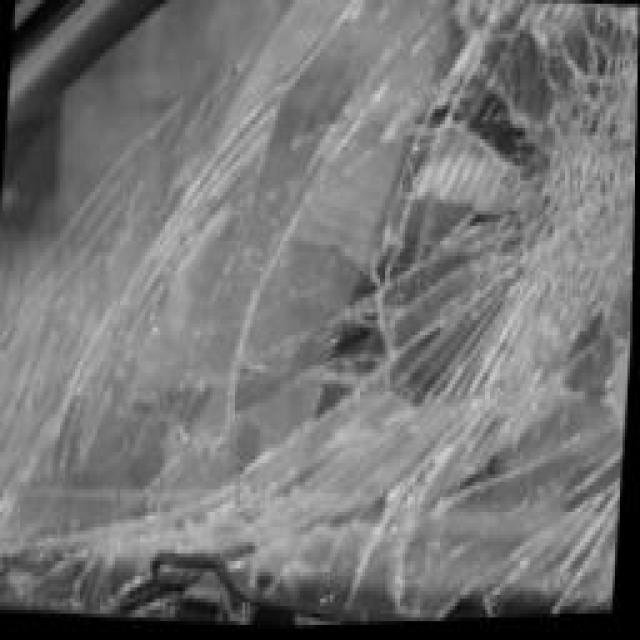Windshield: (0, 0, 639, 629)
